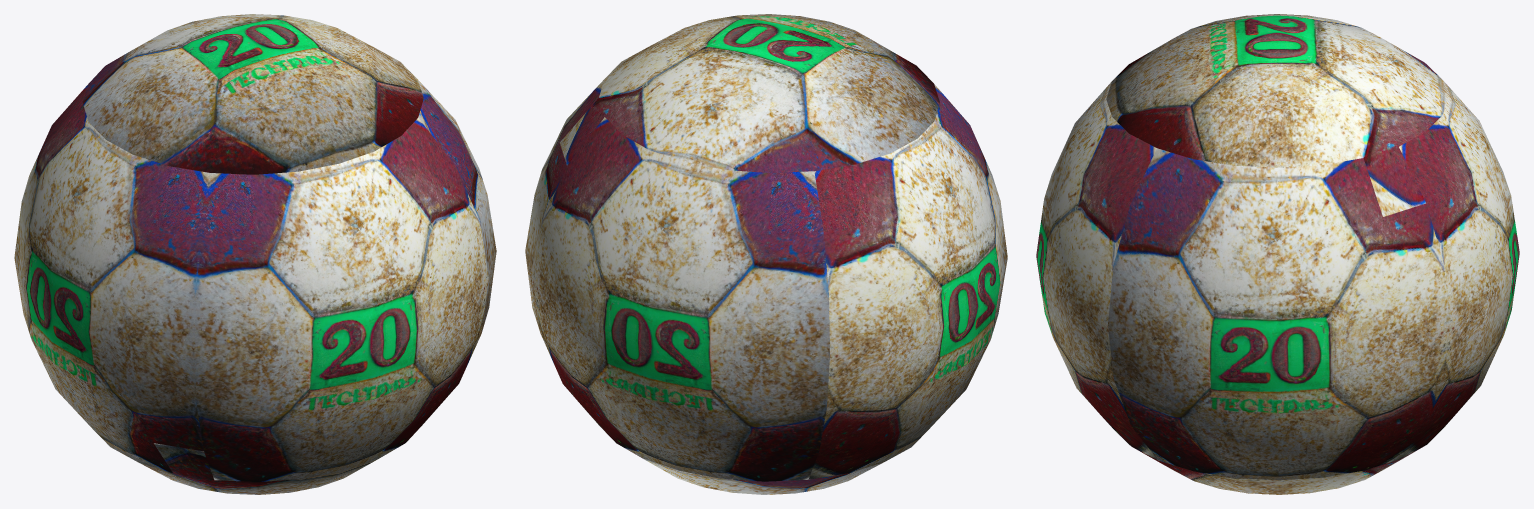
The model's file is SM_Ball00.fbx.
The picture shows the model from 3 angles, left to right: view 1: azimuth 30°, elevation 25°; view 2: azimuth 150°, elevation 25°; view 3: azimuth 270°, elevation 25°; orthographic projection.
Parts seen in each view (by area): view 1: SM_Ball00; view 2: SM_Ball00; view 3: SM_Ball00.
Part boxes in pixels (<box>): SM_Ball00: <box>14,14,496,494</box>; SM_Ball00: <box>525,14,1007,494</box>; SM_Ball00: <box>1036,14,1519,494</box>.
Bounding box in the file's own units: 97.17 × 97.17 × 97.18.
